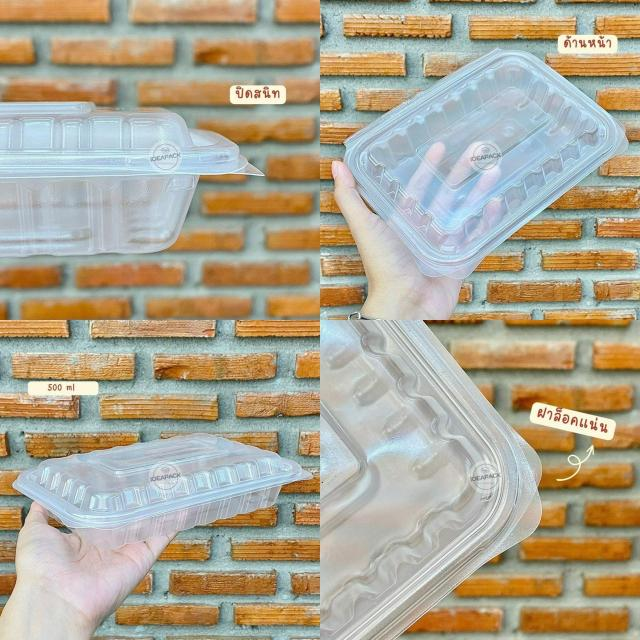Single-Use-Plastic: (320, 320, 541, 640), (344, 49, 628, 279), (0, 102, 262, 256), (14, 434, 311, 548)
